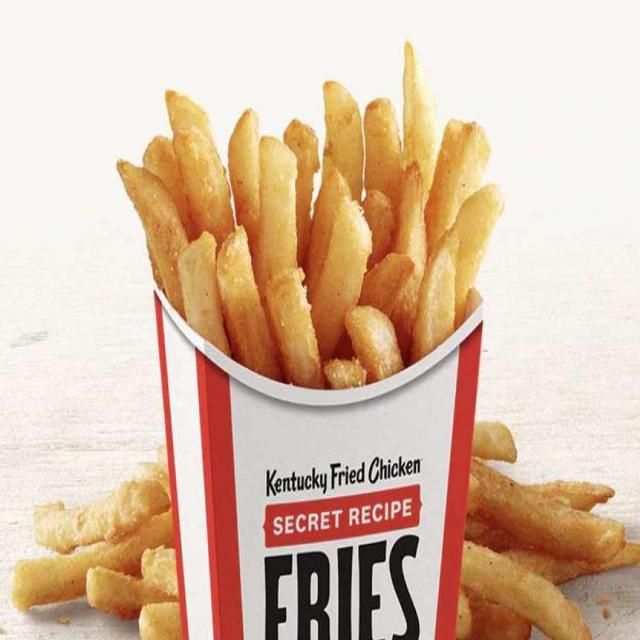Fries: (108, 16, 515, 446)
